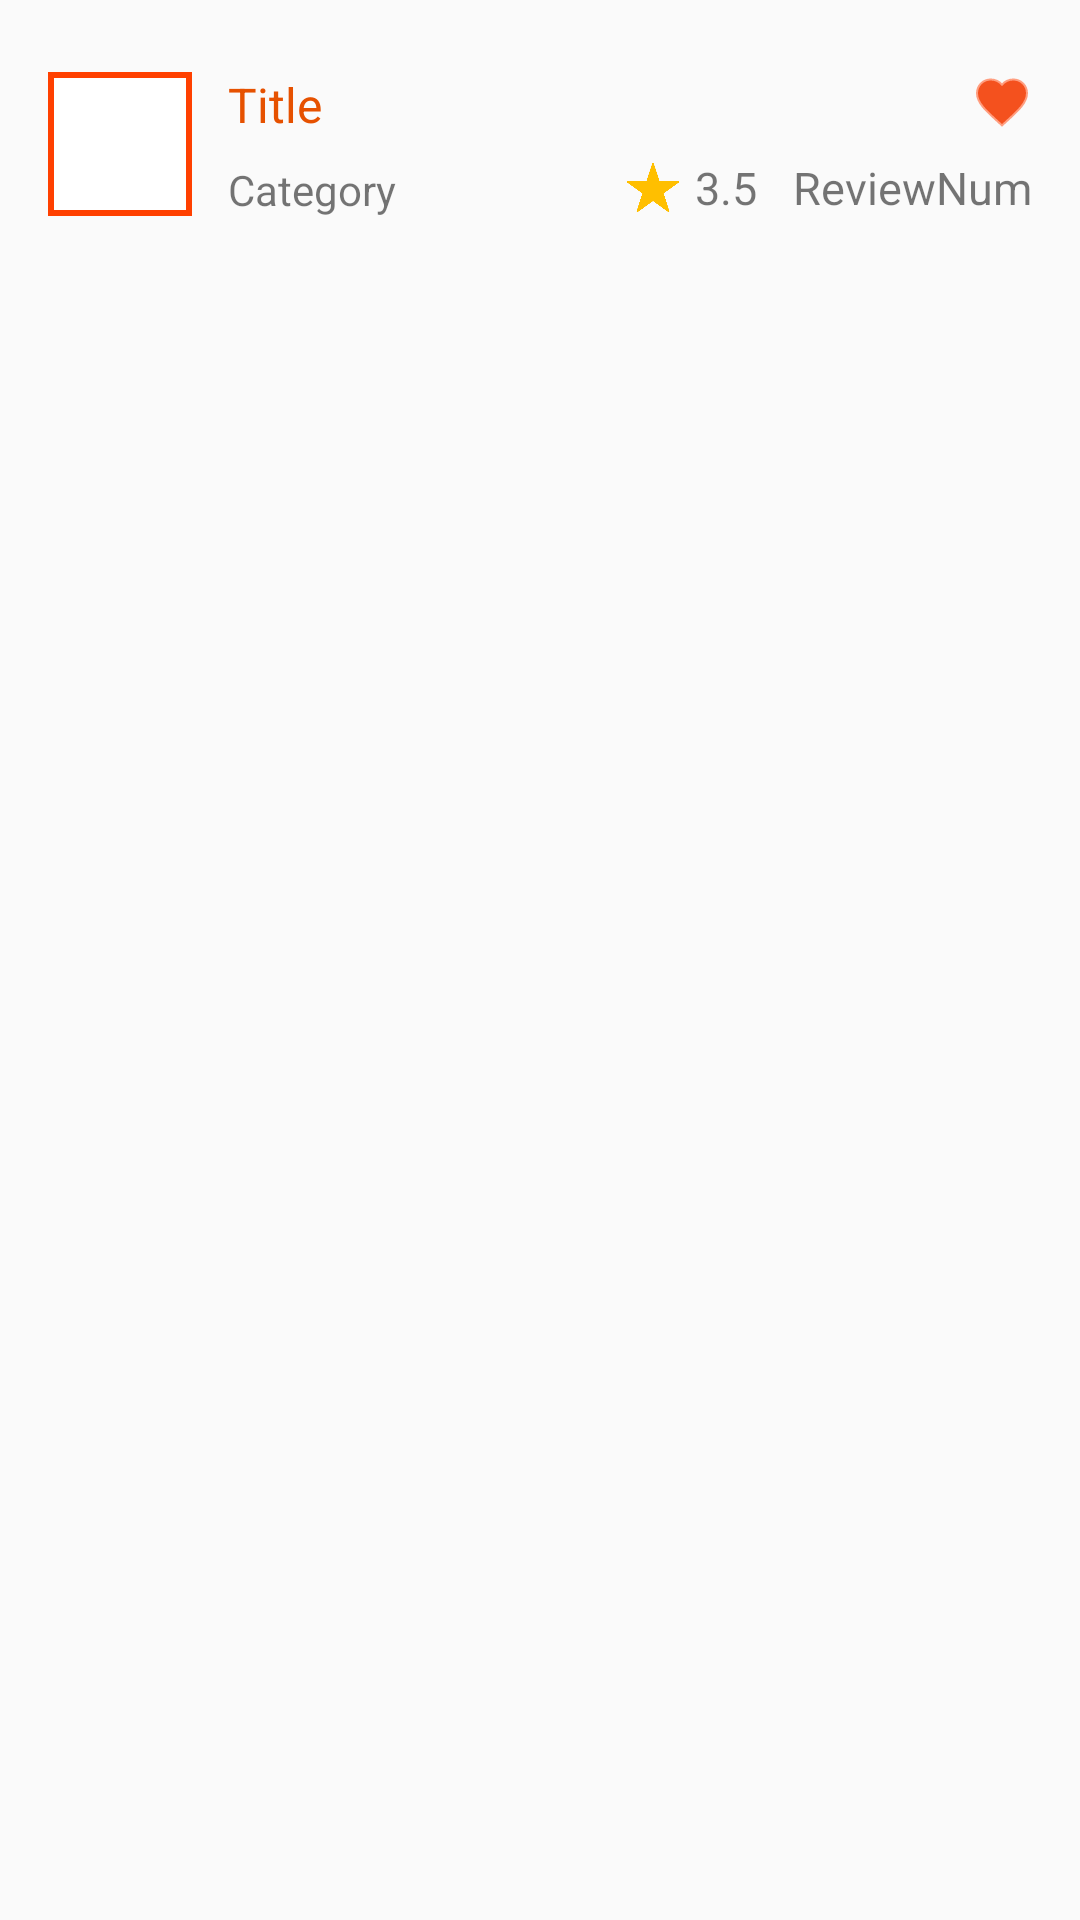

Named icons in this screenshot (1080px x 1920px) and their bounding boxes, (x1,y1,x2,y2):
heart one: (976,78,1028,127)
